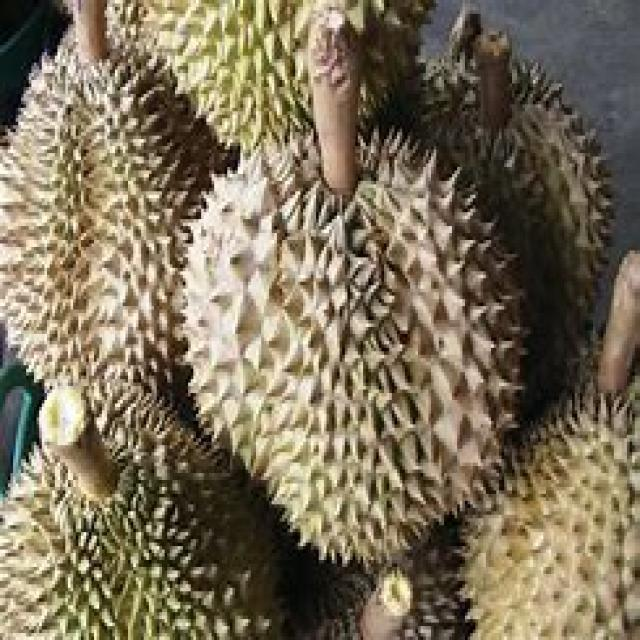mature: (185, 131, 521, 564), (0, 40, 231, 400)
